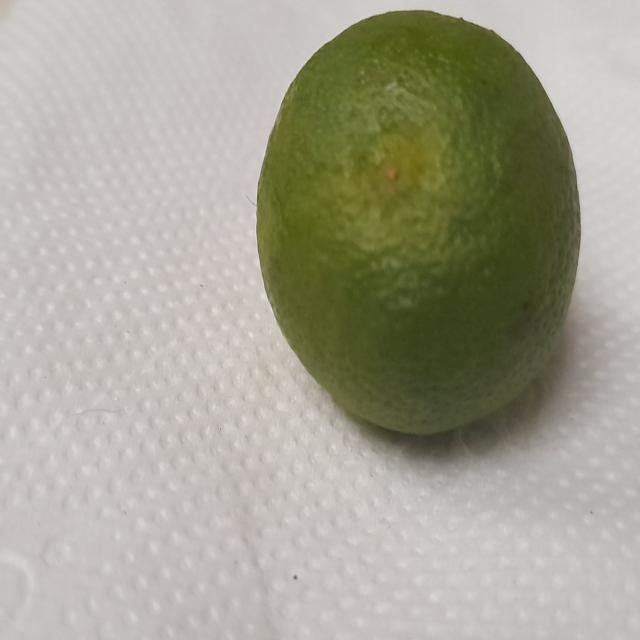heathy: (254, 0, 582, 474)
